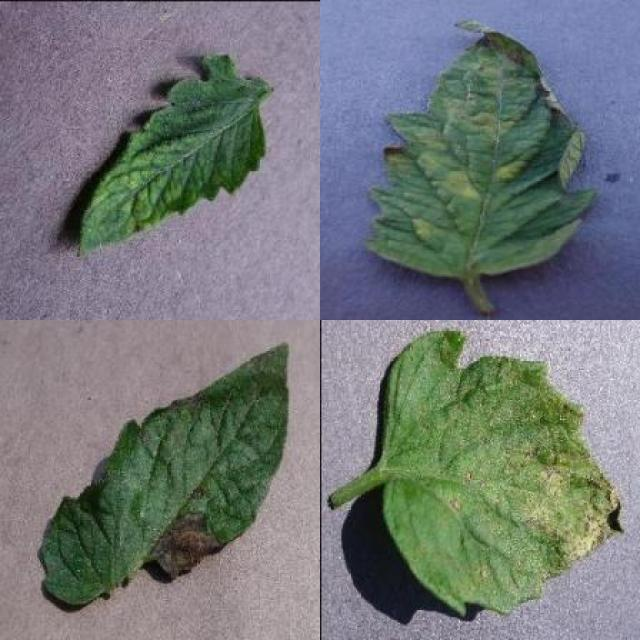Late Blight: (40, 338, 290, 606)
Leaf Mold: (368, 17, 595, 280)
Mosaic Virus: (76, 52, 270, 258)
Septoria: (380, 330, 626, 616)
